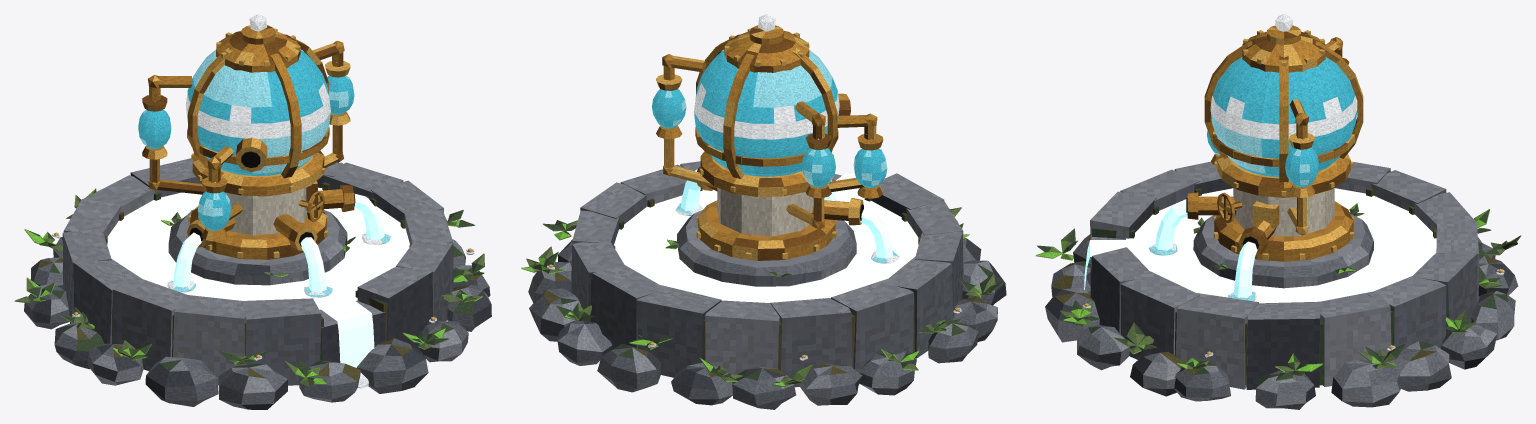
Rendered from fountain_rain.glb.
3 views of the same model, side by side, from view 1: azimuth 30°, elevation 25°; view 2: azimuth 150°, elevation 25°; view 3: azimuth 270°, elevation 25° (orthographic).
Parts seen in each view (by area): view 1: fountain_rain; view 2: fountain_rain; view 3: fountain_rain.
Part boxes in pixels (bbox=[...]): fountain_rain: bbox=[14, 14, 491, 409]; fountain_rain: bbox=[521, 14, 1006, 409]; fountain_rain: bbox=[1036, 14, 1521, 409].
Size of the model in its own units: 3.64 by 2.54 by 3.64.
3 materials, 2 textured.
